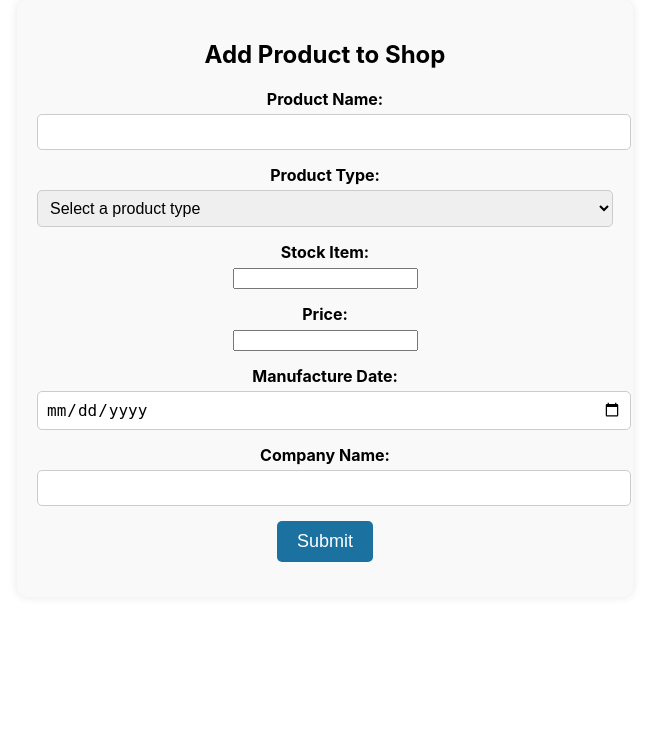
Test: displays_validation_errors_with_empty_input_fields
What coordinates should you click on to do the following:
click the button "Submit"
I would click on:
 (325, 541)
Its box is [277,521,373,562].
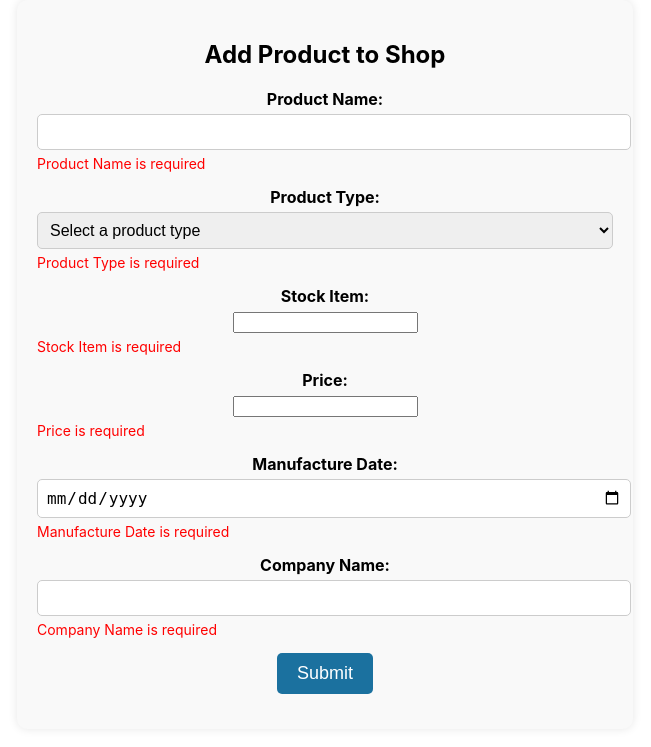
Check: the text "Product Name is required" is shown, box [37,155,206,172]
Check: the text "Product Type is required" is shown, box [37,254,199,271]
Check: the text "Stock Item is required" is shown, box [37,338,181,355]
